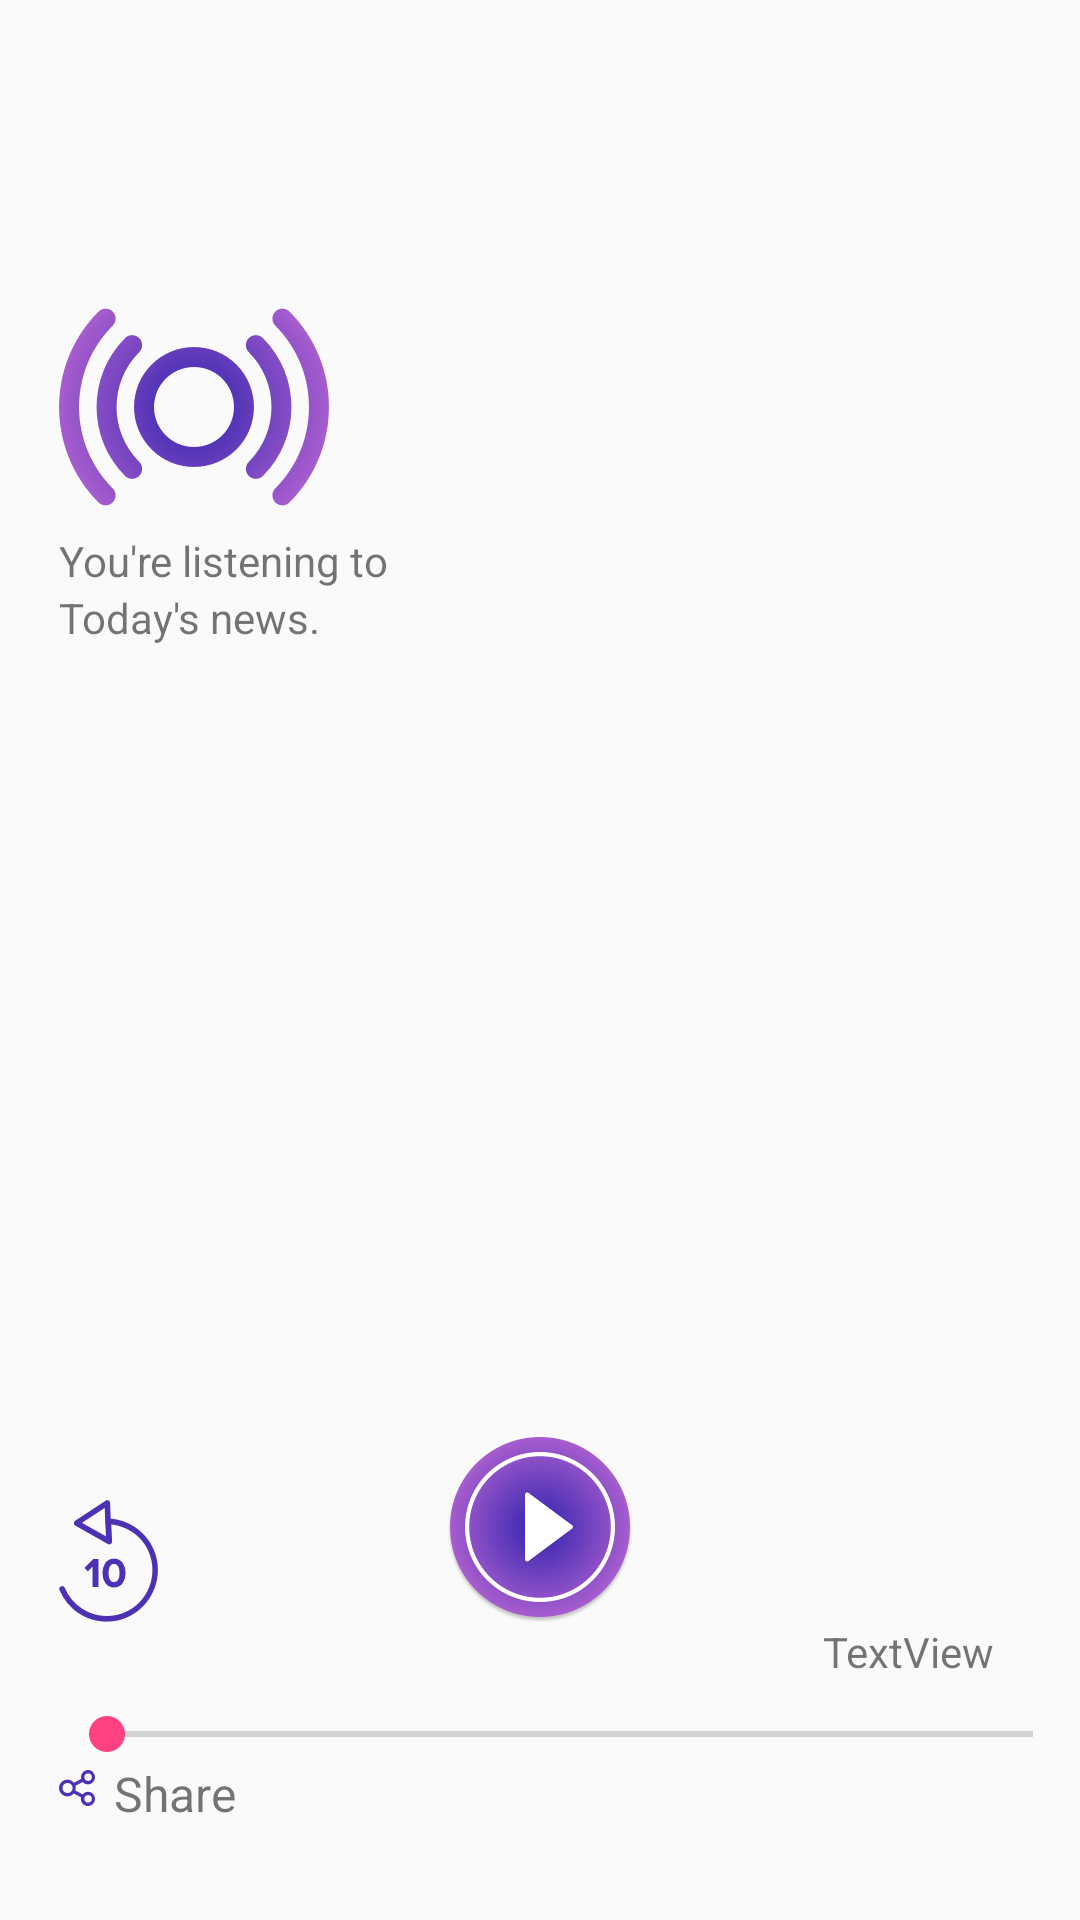

Point at icon controls on the screen. Image size 1080px×1920px, points as (x,y).
back: (108,1561)
play: (540,1528)
